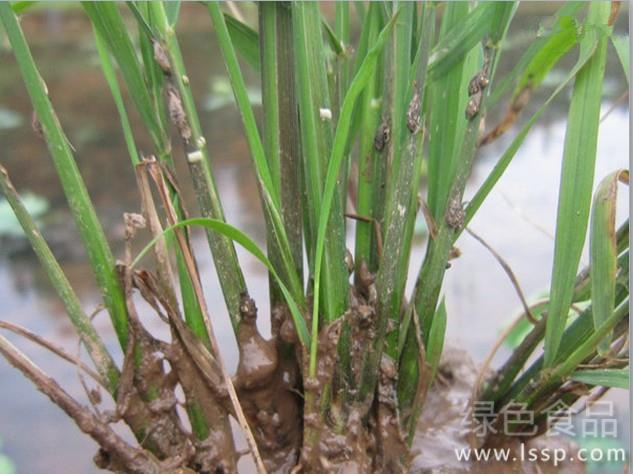pest: (165, 87, 194, 140), (463, 68, 487, 121), (445, 192, 476, 231), (370, 122, 394, 153), (147, 43, 172, 71), (407, 89, 422, 133), (30, 110, 44, 138)
